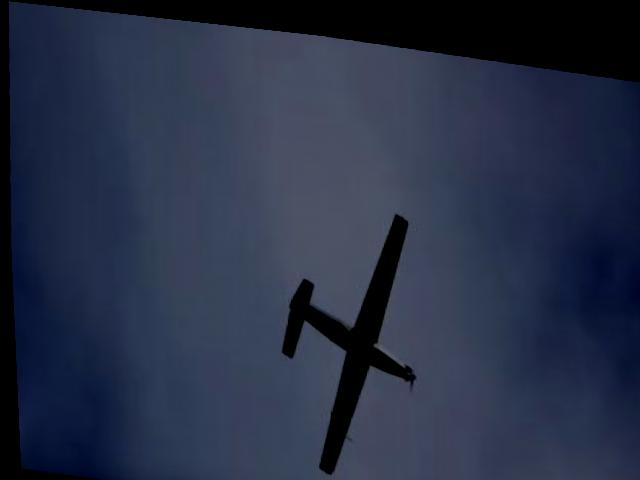uav: (267, 187, 422, 480)
